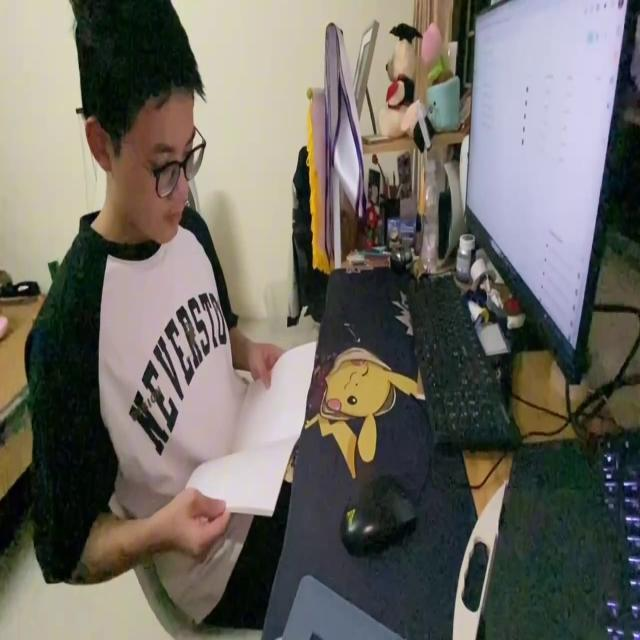book: (181, 337, 320, 521)
laptop: (464, 0, 636, 379)
student: (24, 0, 294, 633)
